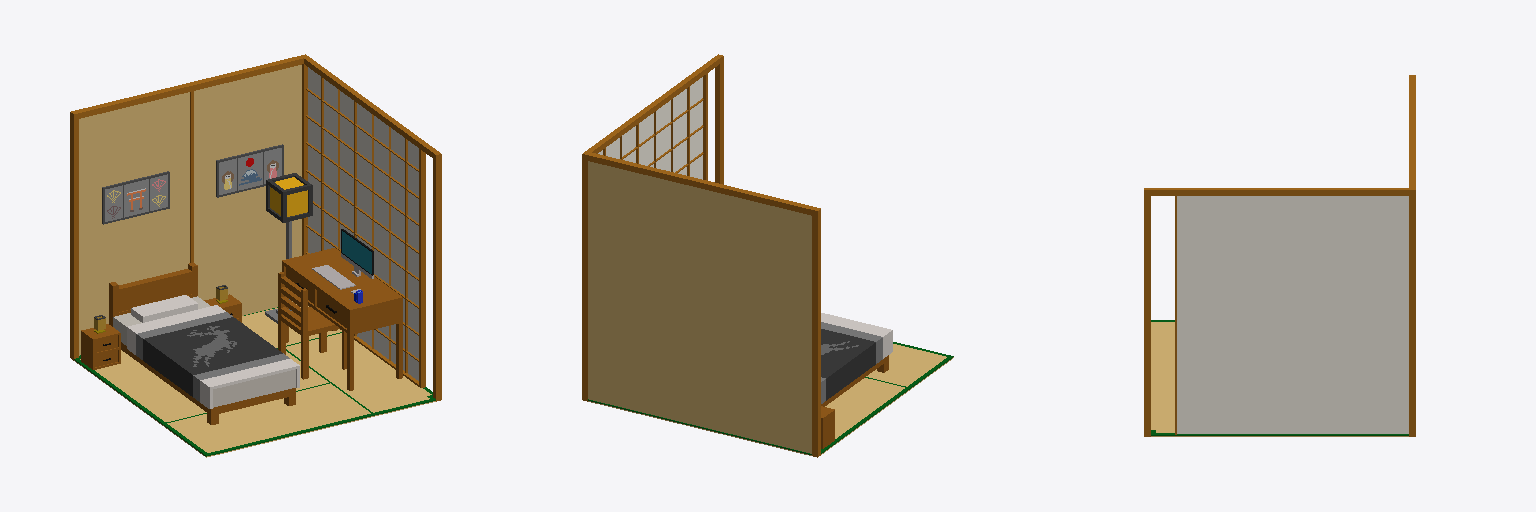
3 renders of one model, left to right at view 1: azimuth 30°, elevation 25°; view 2: azimuth 150°, elevation 25°; view 3: azimuth 270°, elevation 25°, orthographic.
Parts seen in each view (by area): view 1: object 1; view 2: object 1; view 3: object 1.
Boxes of the visible parts, x1,y1,x2,y2 form: object 1: [70, 54, 441, 457]; object 1: [582, 54, 953, 457]; object 1: [1144, 75, 1415, 436].
Bounding box in the file's own units: 25.6 × 25.6 × 25.6.
1 materials, 1 textured.